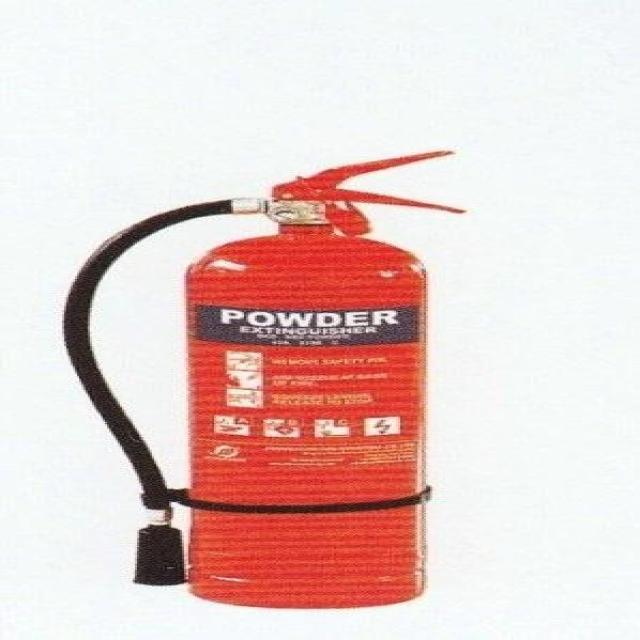fire_extinguisher: (51, 146, 473, 615)
